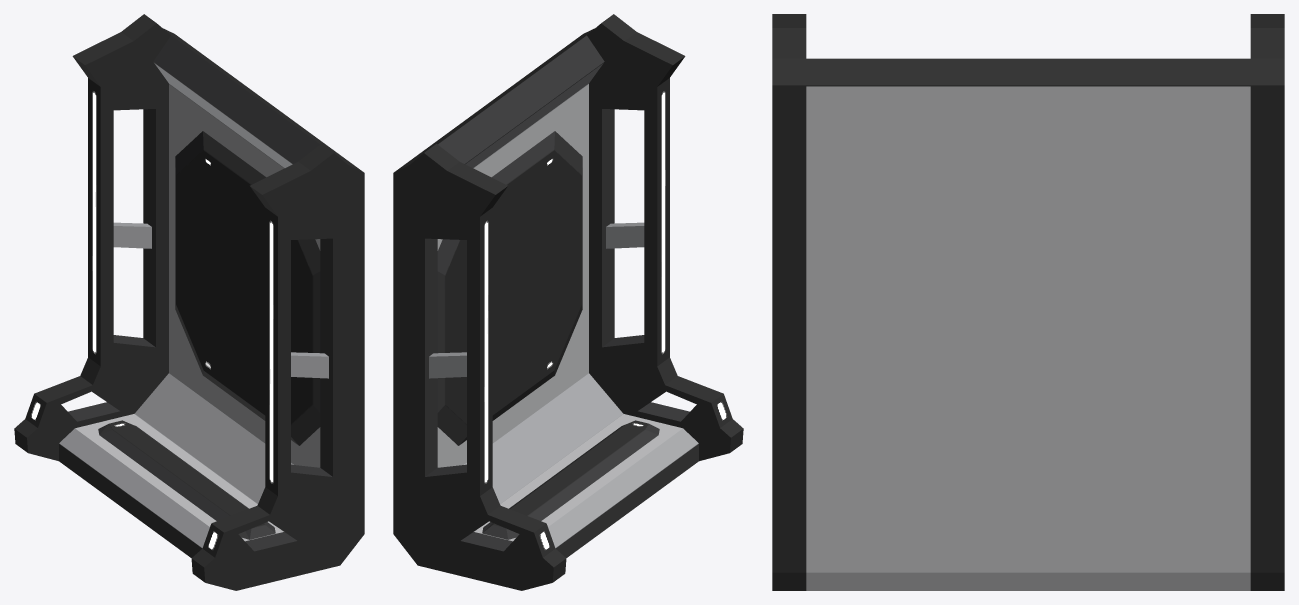
Rendered from Wall01.fbx.
3 renders of one model, left to right at view 1: azimuth 30°, elevation 25°; view 2: azimuth 150°, elevation 25°; view 3: azimuth 270°, elevation 25°, orthographic. The views are drawn at different scales.
Visible parts, largest first — view 1: Wall01; view 2: Wall01; view 3: Wall01.
Part boxes in pixels (left/top/right/bottom): Wall01: left=14, top=14, right=364, bottom=590; Wall01: left=393, top=14, right=743, bottom=590; Wall01: left=772, top=14, right=1284, bottom=590.
Size of the model in its own units: 117 by 289 by 240.
